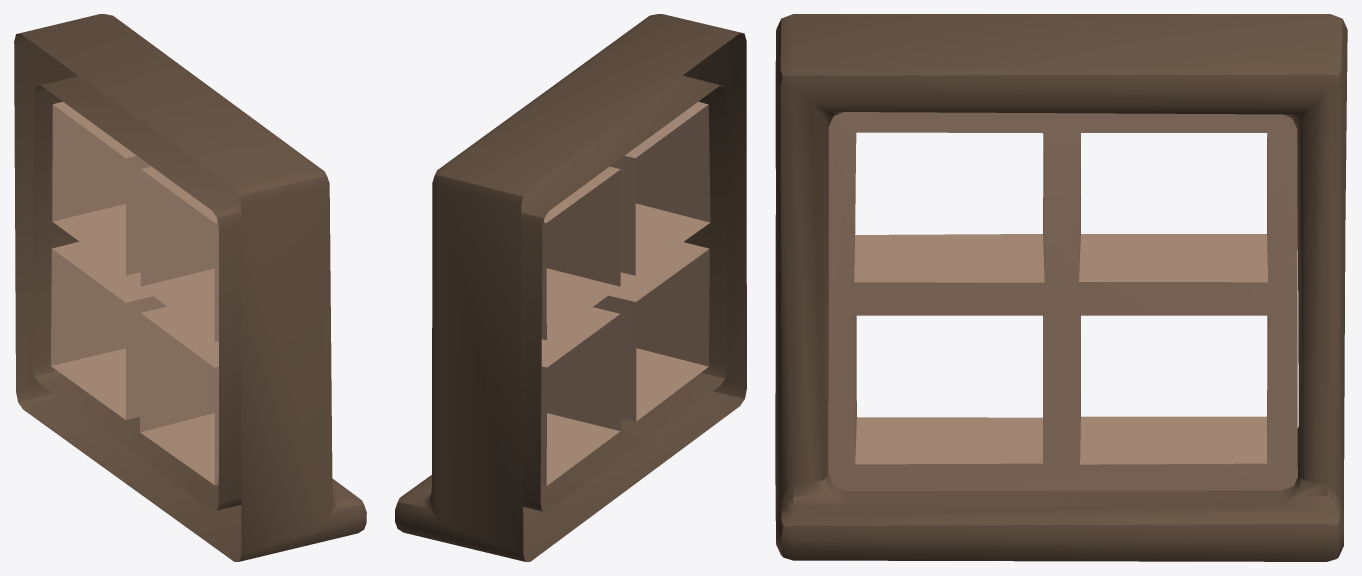
Rendered from window.glb.
3 renders of one model, left to right at view 1: azimuth 30°, elevation 25°; view 2: azimuth 150°, elevation 25°; view 3: azimuth 270°, elevation 25°, orthographic. The views are drawn at different scales.
Visible parts, largest first — view 1: window, window.001; view 2: window, window.001; view 3: window, window.001.
Boxes of the visible parts, bbox=[...] form: window: bbox=[14, 14, 366, 561]; window.001: bbox=[51, 101, 218, 484]; window: bbox=[395, 14, 746, 561]; window.001: bbox=[540, 101, 710, 485]; window: bbox=[775, 14, 1347, 561]; window.001: bbox=[828, 112, 1297, 490].
Bounding box in the file's own units: 0.6807 × 1.82 × 2.
